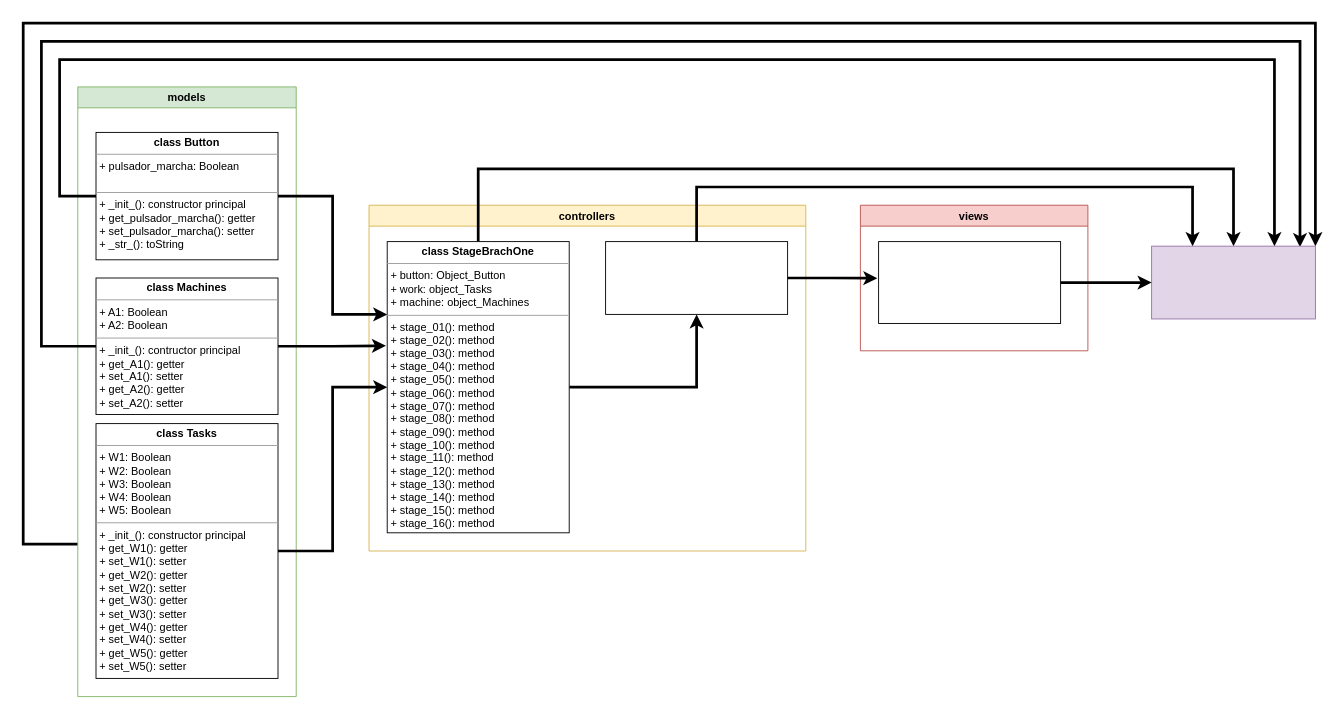
Some shapes in this 1340 by 713 pixel diagram are drawn without their labels. The centre of each missing label's shape, as x and y in pixels:
class Main + none: none + _name_="_main_": condition: pixel 1233 282
class Menu + none: none + run_processes(): method: pixel 969 282
class MyWorks + none: none + this_process(): method: pixel 696 277
